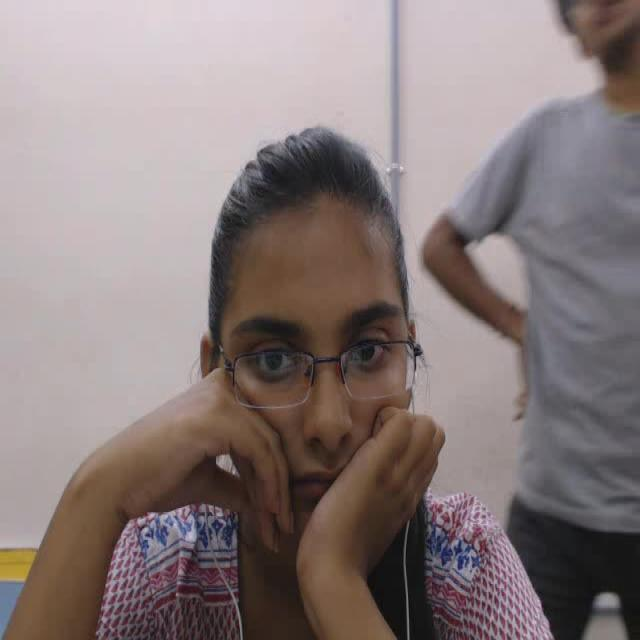Bored: (169, 110, 432, 563)
